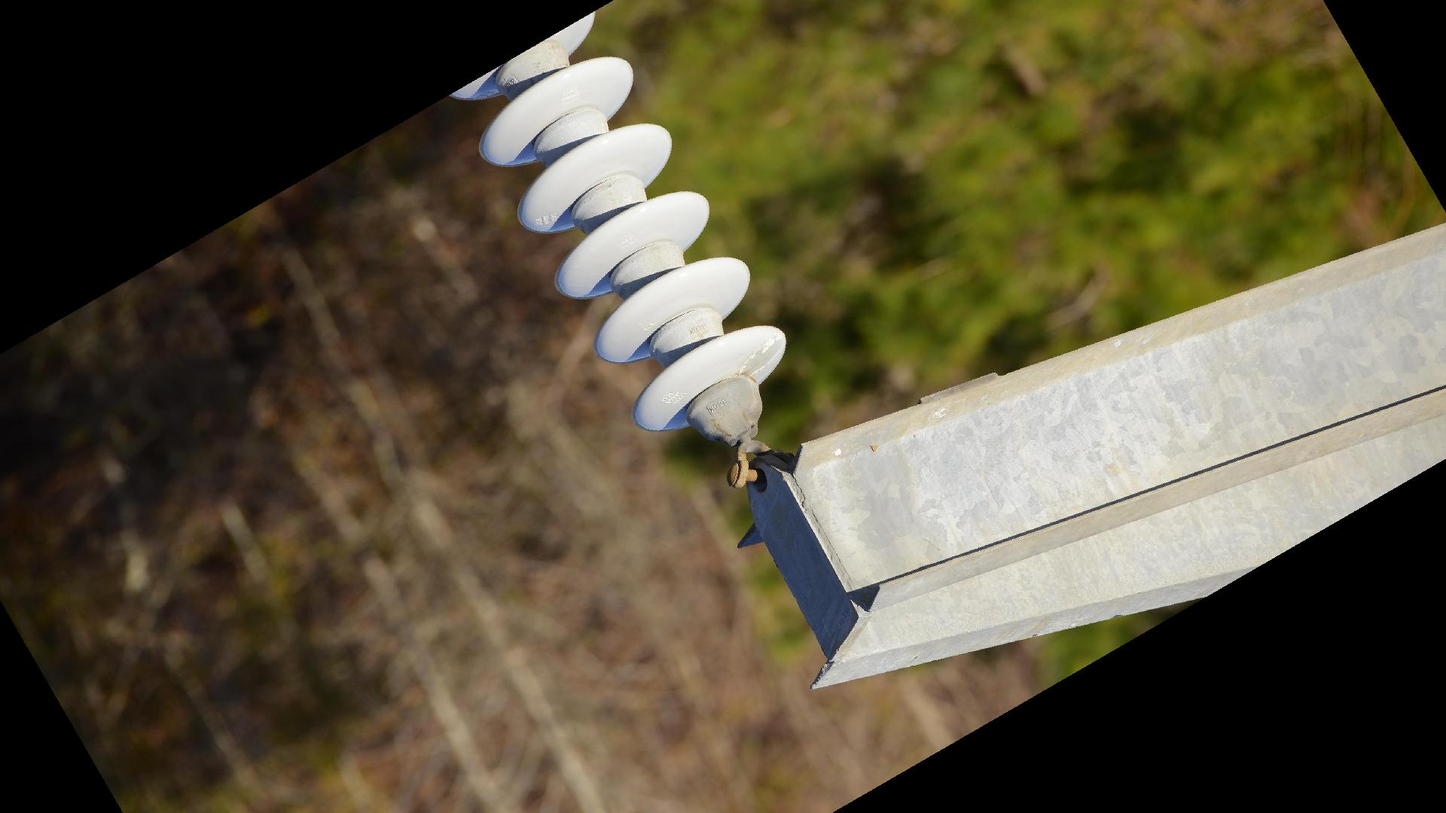insulator: (441, 7, 796, 438)
insulator_flashover: (737, 334, 787, 377)
